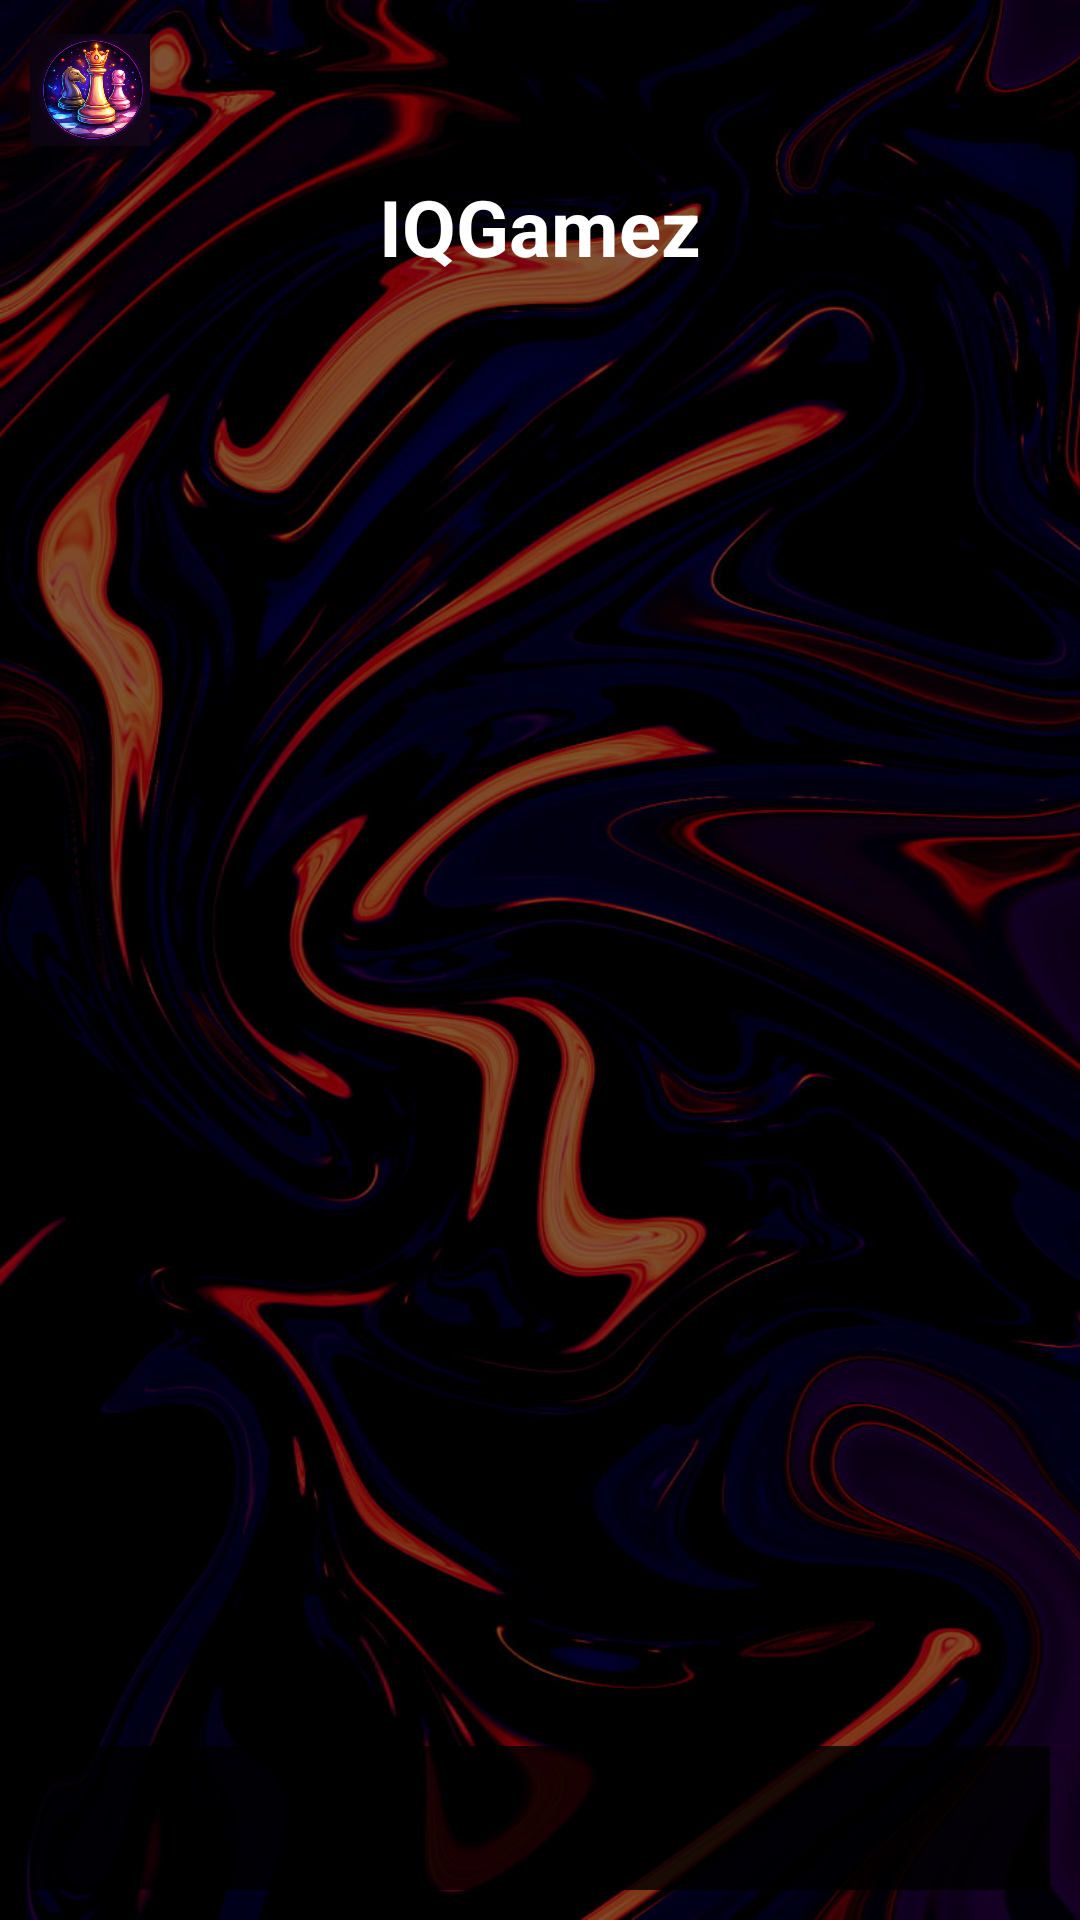

Point at icon controls on the screen. Image size 1080x1920, points as (x=x, y=y).
prof: (x=92, y=86)
